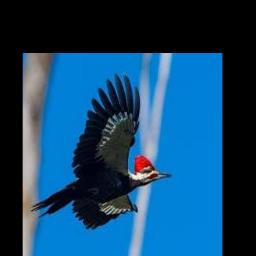Woodpecker: (30, 72, 171, 229)
